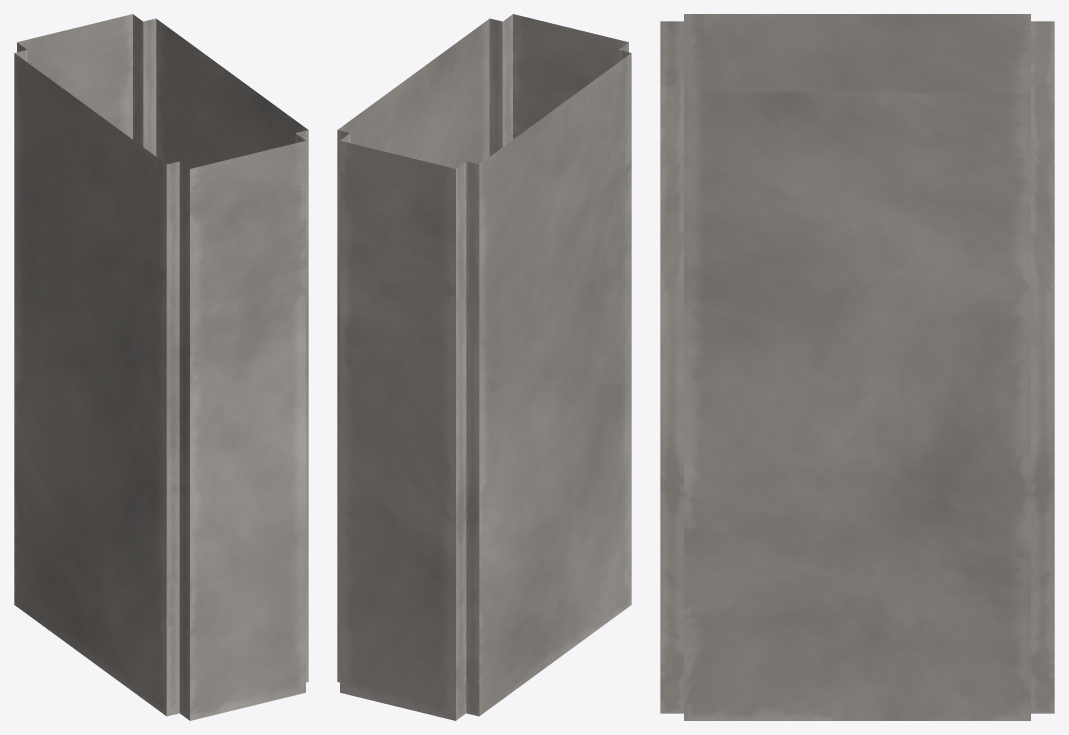
File: Post_A_2m.fbx
3 renders of one model, left to right at view 1: azimuth 30°, elevation 25°; view 2: azimuth 150°, elevation 25°; view 3: azimuth 270°, elevation 25°, orthographic. The views are drawn at different scales.
Visible parts, largest first — view 1: Post_A_2m; view 2: Post_A_2m; view 3: Post_A_2m.
Part boxes in pixels (x1=…): Post_A_2m: x1=14, y1=14, x2=308, y2=720; Post_A_2m: x1=337, y1=14, x2=631, y2=720; Post_A_2m: x1=660, y1=14, x2=1054, y2=720.
Bounding box in the file's own units: 0.5372 × 1.14 × 2.
